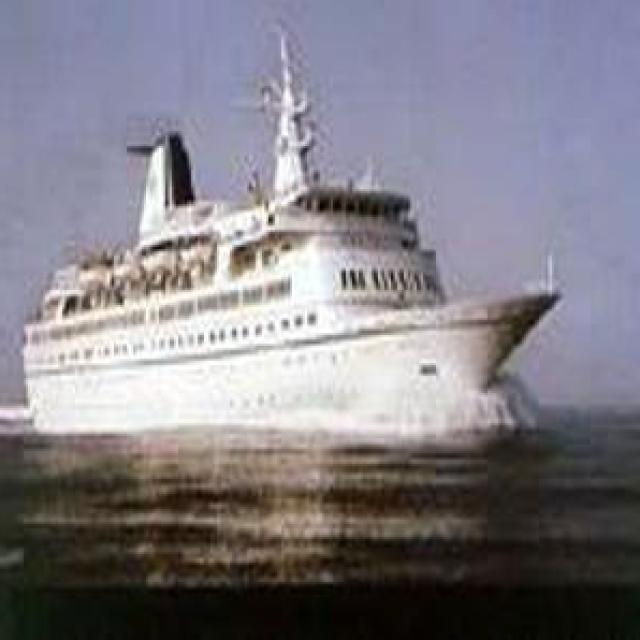navalvessels: (17, 173, 571, 434)
